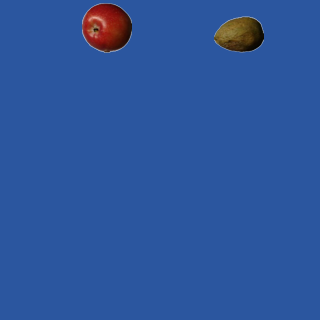Apple Braeburn: (81, 2, 131, 52)
Papaya: (213, 9, 263, 59)
